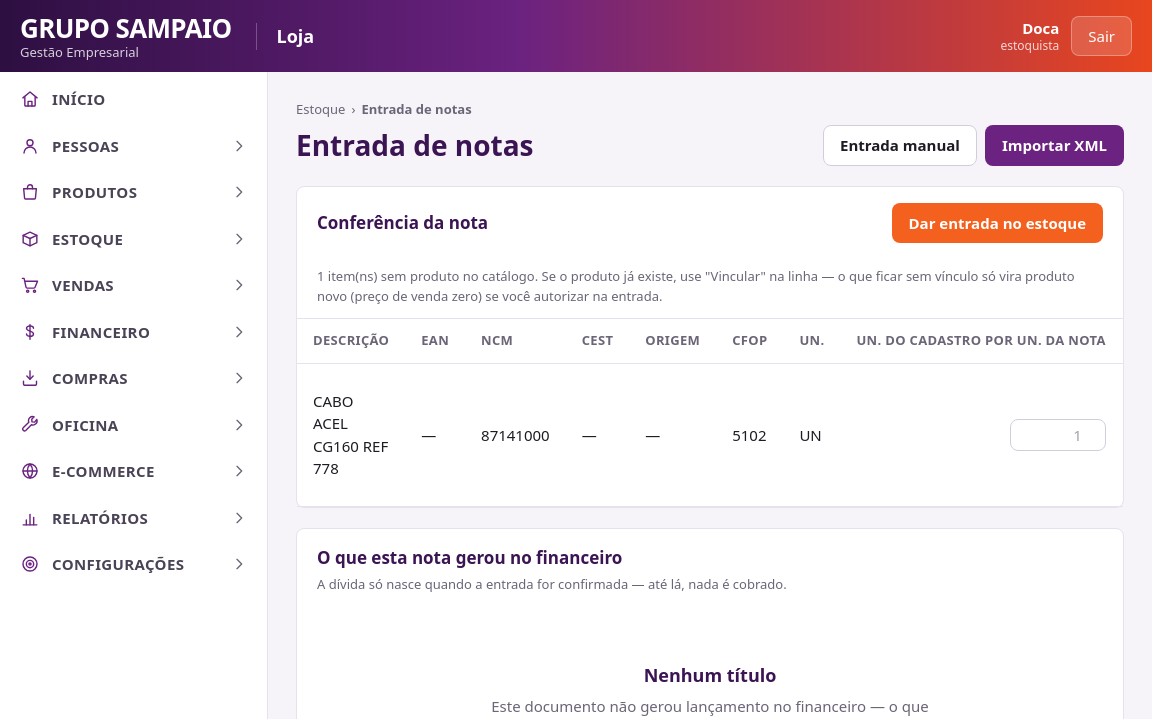
Test: produto novo só nasce com autorização, e com a lista na tela (GAP-PRD-015) › o primeiro clique NÃO confirma: mostra o que vai virar cadastro novo
Expected: the text "CABO ACEL CG160 REF 778" is shown, [297,363,405,506]
Click the button "Dar entrada no estoque". click: (997, 223)
box: [892,202,1103,243]
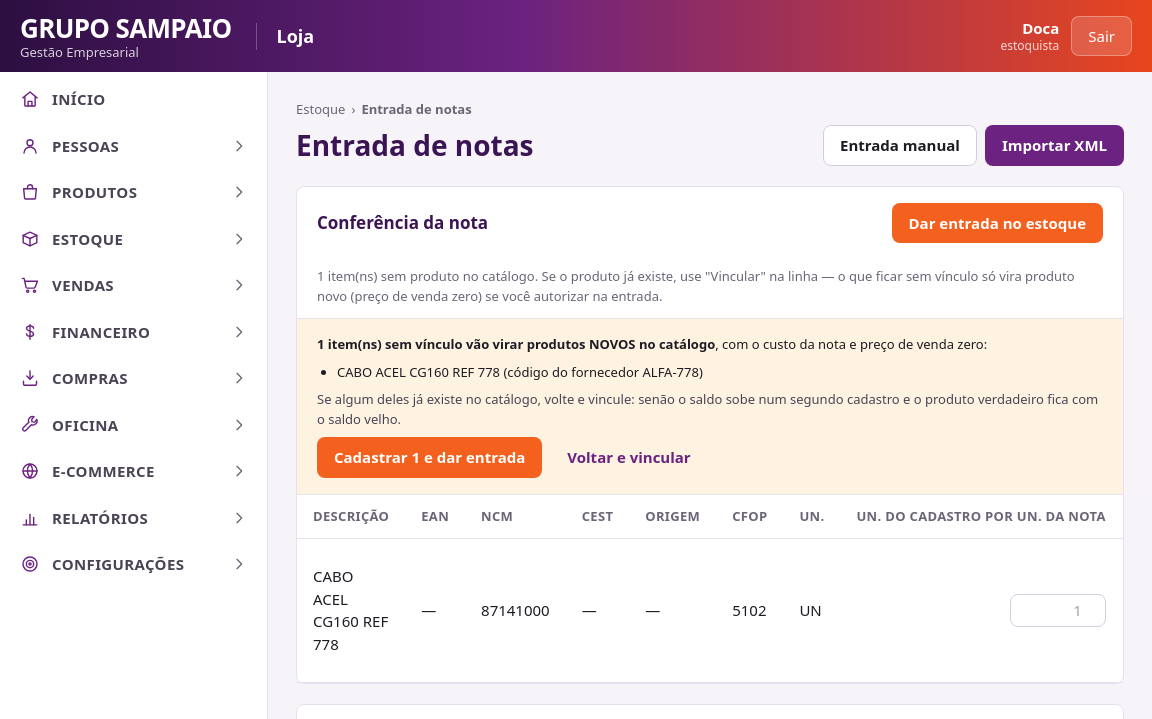
Result: the list item "CABO ACEL CG160 REF 778 (código do fornecedor ALFA-778)" is shown at [337,362,703,380]
// "Voltar e vincular" fecha o pedido sem confirmar nada.
Click the button "Voltar e vincular". click: (629, 457)
box: [550,437,708,478]
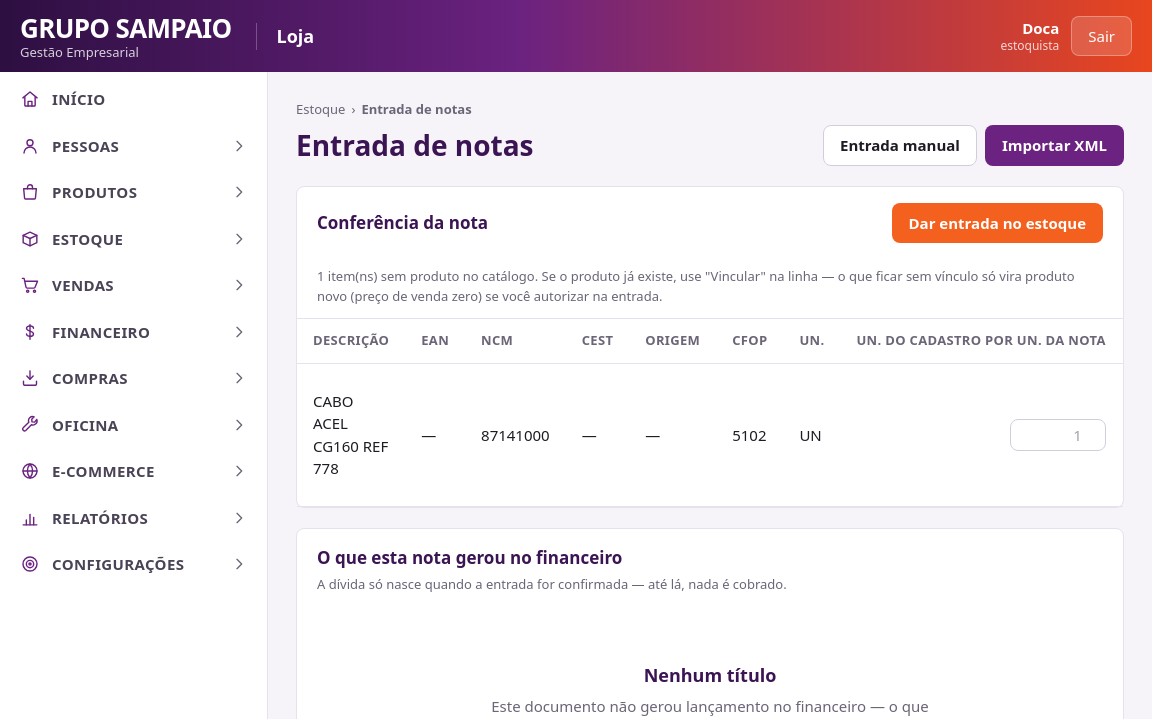
Result: the dialog is gone
